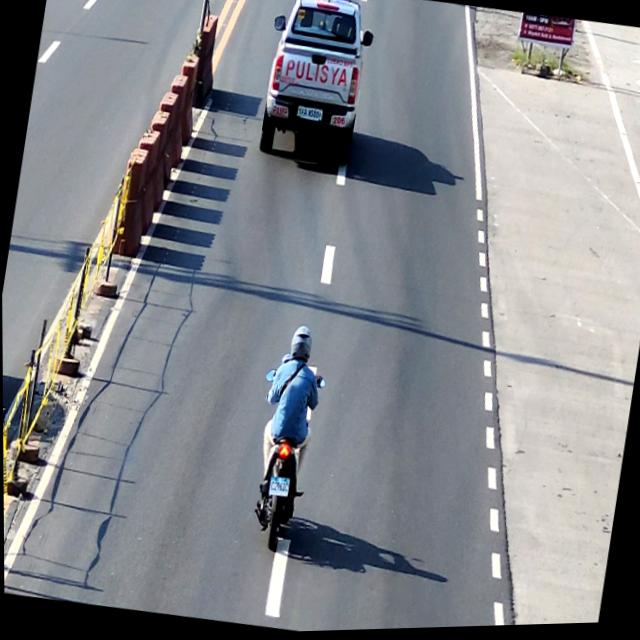Car: (253, 0, 381, 171)
License-Plate: (267, 478, 289, 499), (299, 109, 319, 123)
Motorcycle: (239, 364, 327, 555)
